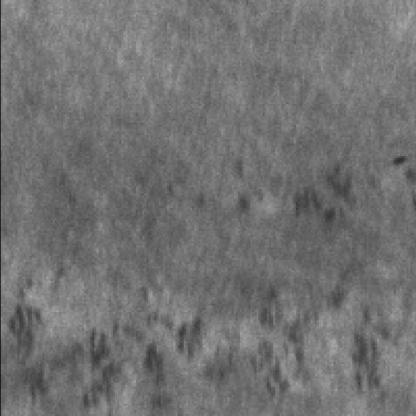rolled-in_scale: (13, 285, 406, 412), (235, 158, 362, 235)
